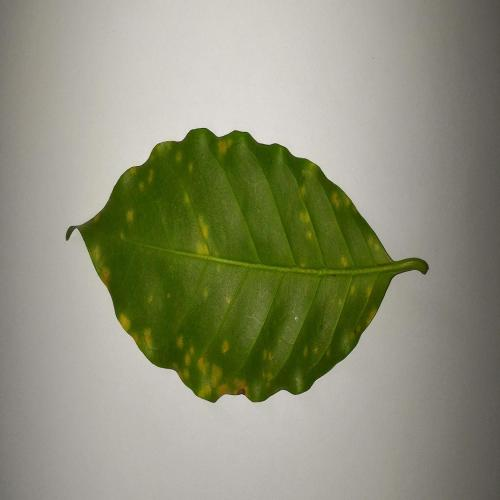phoma: (218, 139, 230, 153)
